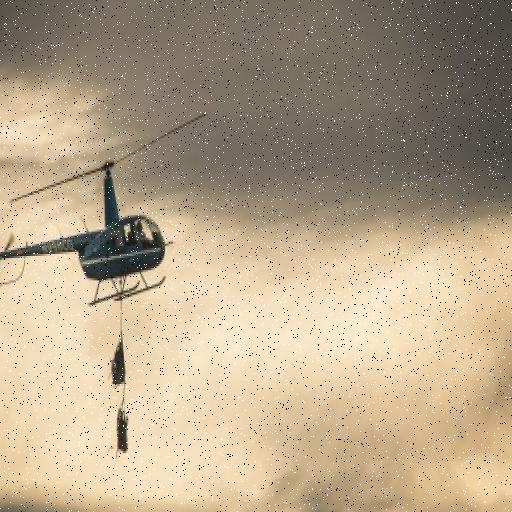helicopter: (1, 162, 184, 302)
